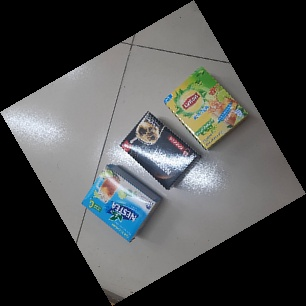CF Viet: (120, 112, 200, 190)
LipTon: (163, 65, 250, 151)
Nestea: (82, 163, 160, 243)
